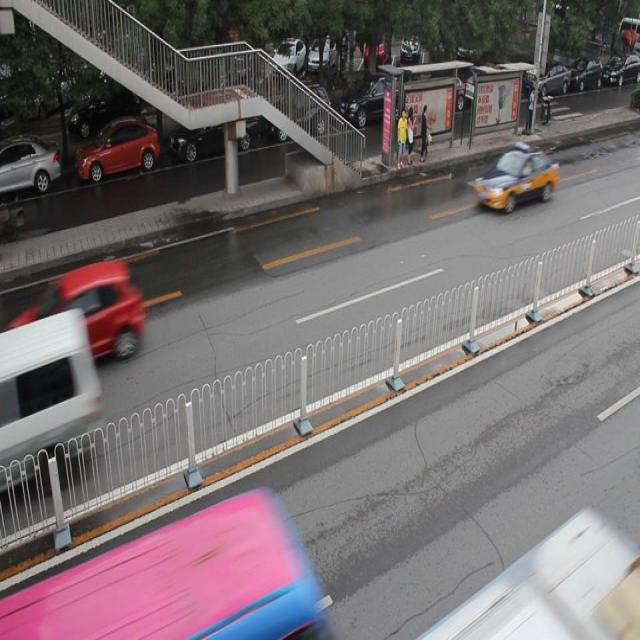car: (25, 256, 144, 364), (473, 141, 557, 212), (75, 118, 158, 182), (167, 102, 256, 160), (337, 70, 410, 128), (265, 85, 330, 140), (1, 136, 58, 196)
van: (1, 489, 322, 640), (413, 505, 640, 640)
